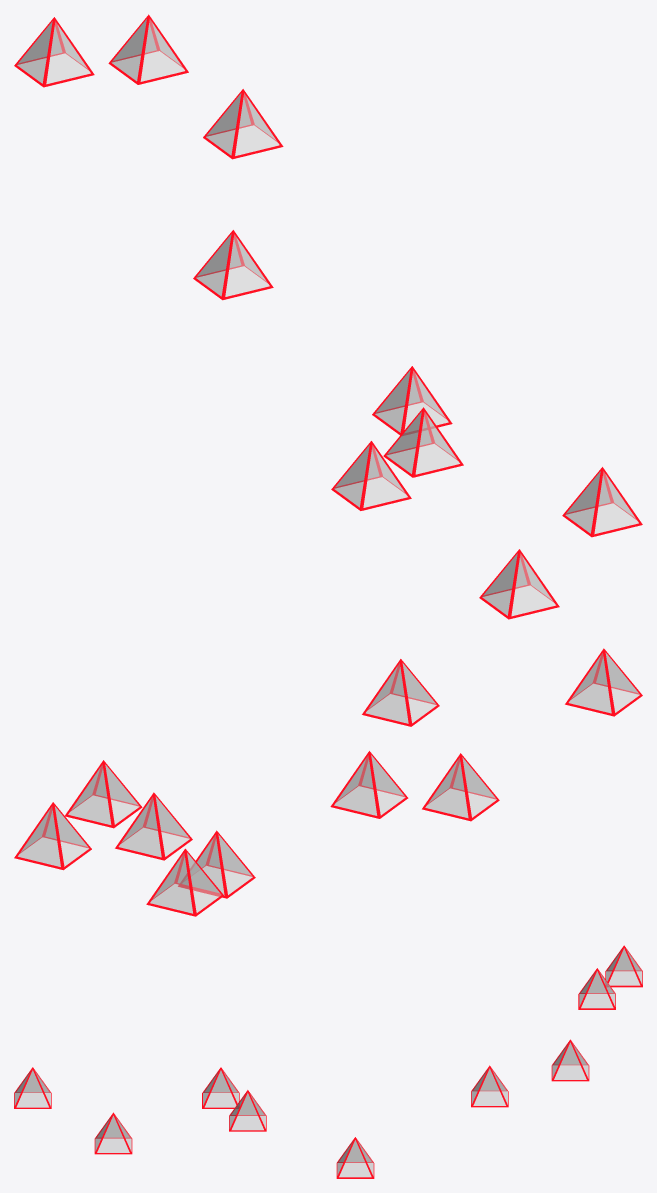
File: (6)M Spike.fbx
The picture shows the model from 3 angles, top to bottom: view 1: azimuth 30°, elevation 25°; view 2: azimuth 150°, elevation 25°; view 3: azimuth 270°, elevation 25°; orthographic projection. The views are drawn at different scales.
Visible parts, largest first — view 1: Spike..007, Spike..009, Spike..004, Spike..005, Spike..006, Spike..003, Spike..002, Spike..008, Spike..001; view 2: Spike..005, Spike..002, Spike..004, Spike..006, Spike..008, Spike..009, Spike..003, Spike..007, Spike..001; view 3: Spike..009, Spike..005, Spike..002, Spike..001, Spike..007, Spike..003, Spike..004, Spike..006, Spike..008.
Part boxes in pixels (bbox=[...]): Spike..007: bbox=[383, 407, 463, 477]; Spike..009: bbox=[203, 89, 283, 159]; Spike..004: bbox=[108, 14, 188, 84]; Spike..005: bbox=[562, 467, 642, 537]; Spike..006: bbox=[479, 549, 559, 619]; Spike..003: bbox=[14, 17, 94, 87]; Spike..002: bbox=[193, 230, 273, 300]; Spike..008: bbox=[331, 441, 411, 510]; Spike..001: bbox=[372, 366, 452, 435]; Spike..005: bbox=[362, 659, 439, 726]; Spike..002: bbox=[146, 848, 223, 916]; Spike..004: bbox=[64, 760, 142, 828]; Spike..006: bbox=[565, 648, 642, 716]; Spike..008: bbox=[422, 753, 499, 821]; Spike..009: bbox=[14, 802, 91, 870]; Spike..003: bbox=[115, 792, 192, 860]; Spike..007: bbox=[330, 751, 408, 818]; Spike..001: bbox=[178, 830, 255, 898]; Spike..009: bbox=[551, 1039, 589, 1081]; Spike..005: bbox=[94, 1112, 132, 1154]; Spike..002: bbox=[471, 1065, 508, 1107]; Spike..001: bbox=[336, 1137, 374, 1178]; Spike..007: bbox=[229, 1090, 266, 1131]; Spike..003: bbox=[605, 945, 642, 987]; Spike..004: bbox=[578, 968, 615, 1009]; Spike..006: bbox=[14, 1067, 51, 1108]; Spike..008: bbox=[202, 1067, 239, 1108].
Bounding box in the file's own units: 540 × 740 × 2340.
